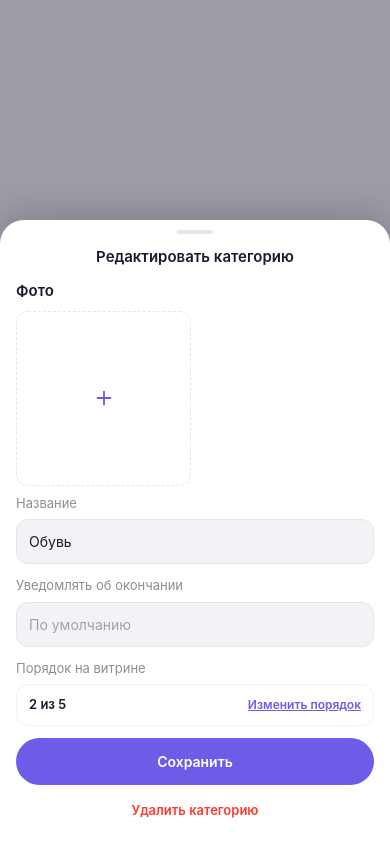
Test: EditCategorySheet — порядок на витрине › показывает текущую позицию и открывает реордер
Check: the text "2 из 5" is shown, box [29,695,66,714]
Click the button "Изменить порядок".
click(304, 705)  # box [248,696,361,714]
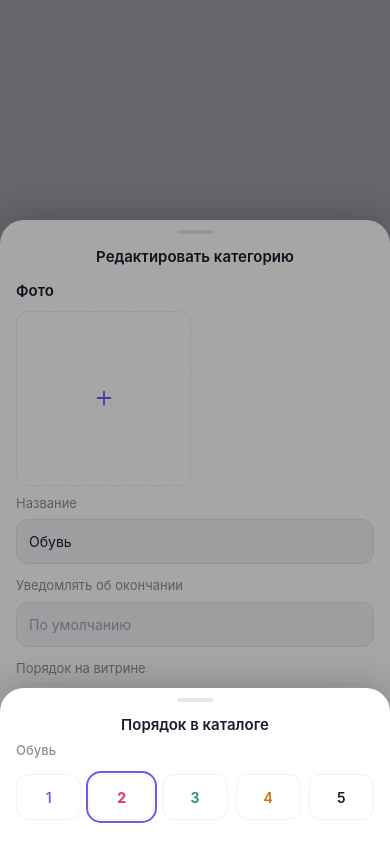
Check: the button "5" is shown, box [309,774,374,820]
